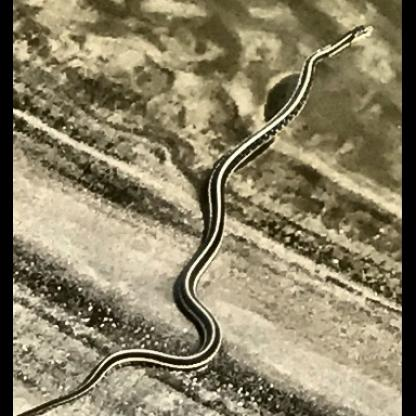Snake: (103, 20, 375, 384)
